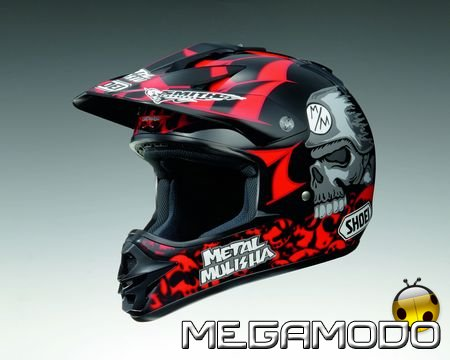helmet: (86, 48, 387, 276)
